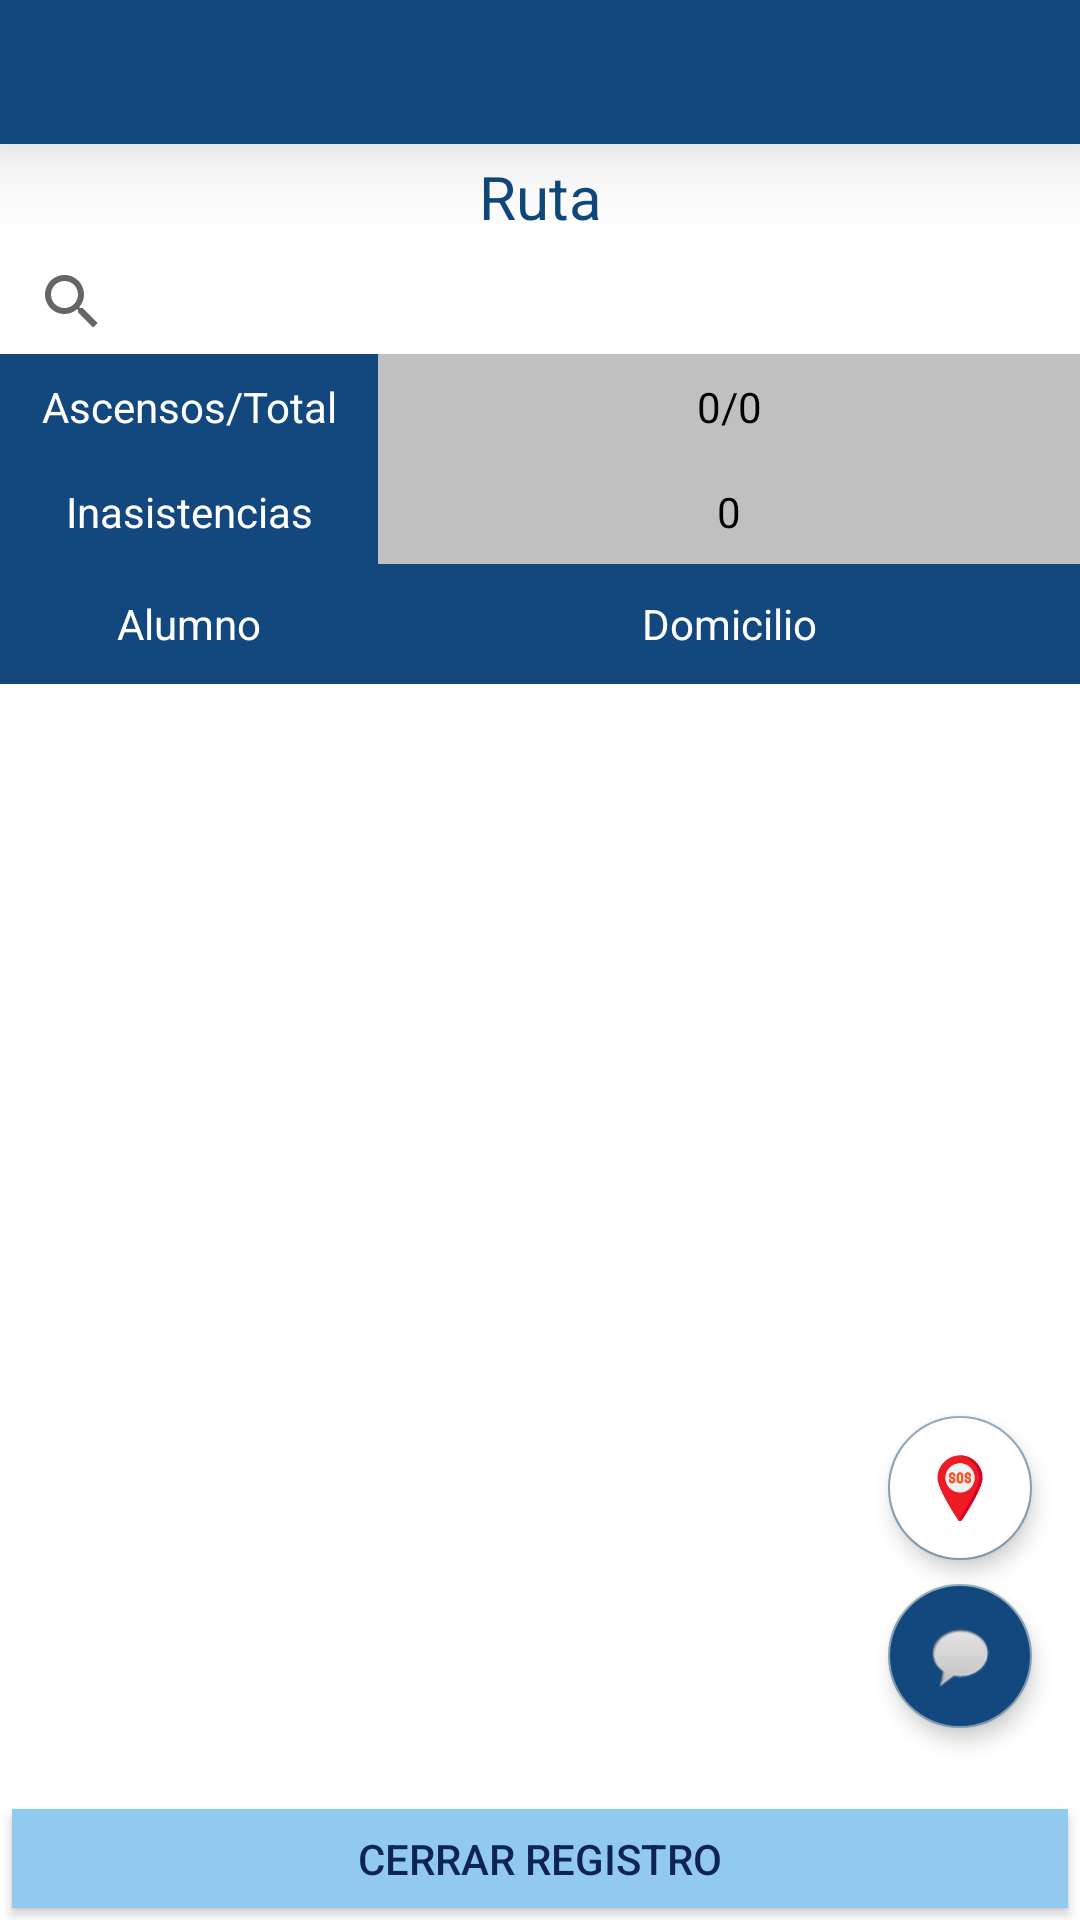

Locate icon controls on the screen. Image size 1080w x 1920h, boxes as [x1=x1, y1=y1, x2=x2, y2=y2].
sym action chat: [x1=888, y1=1584, x2=1032, y2=1728]
